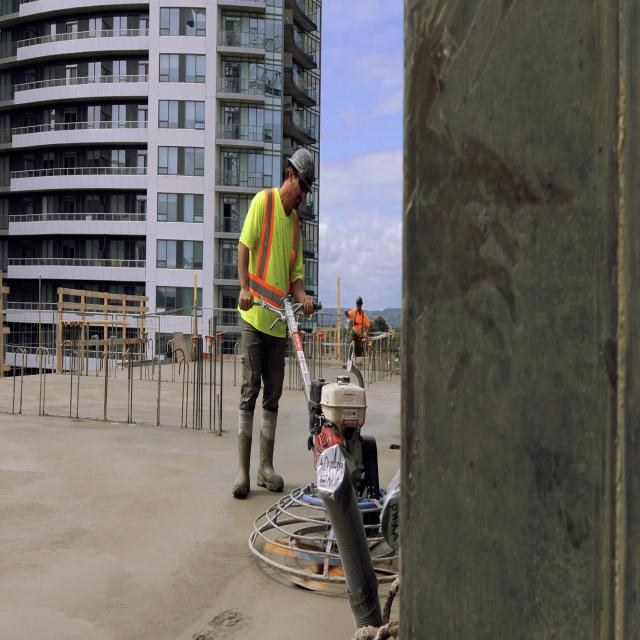Boots: (233, 407, 284, 499)
Helmet: (286, 146, 316, 195)
Vest: (245, 189, 300, 343), (350, 311, 370, 344)
